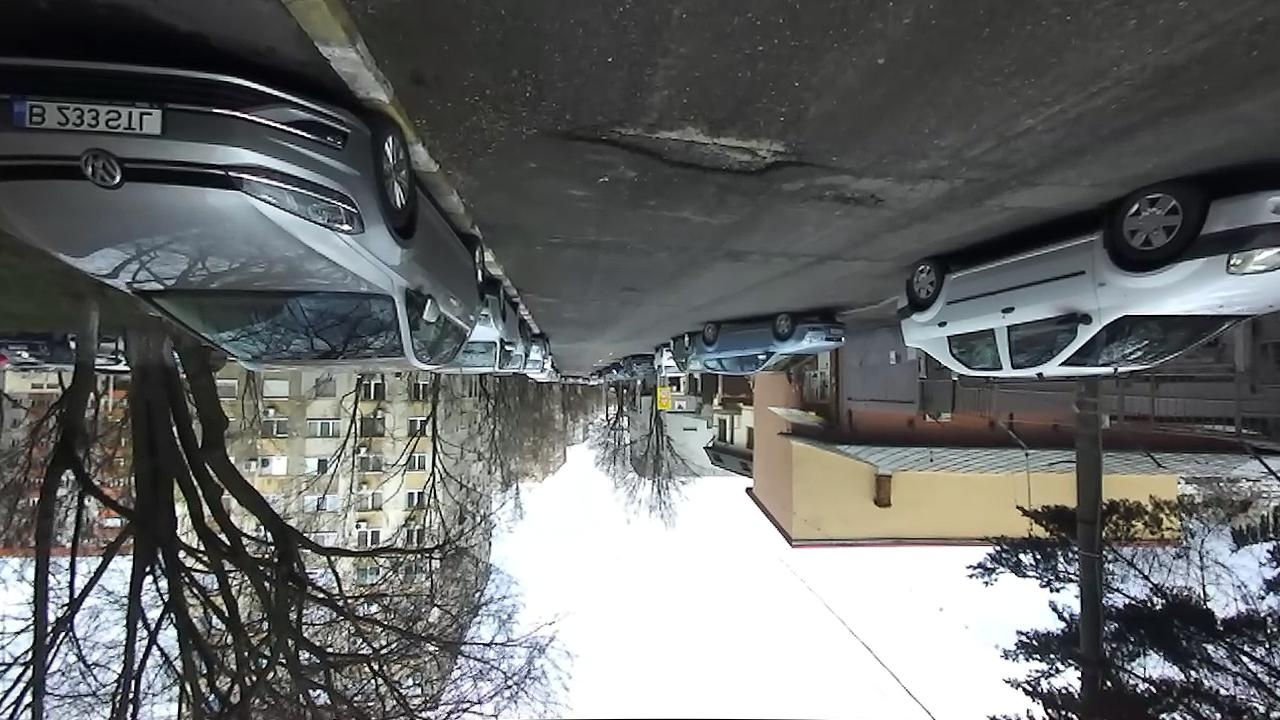pothole: (545, 115, 847, 180), (804, 186, 894, 216)
